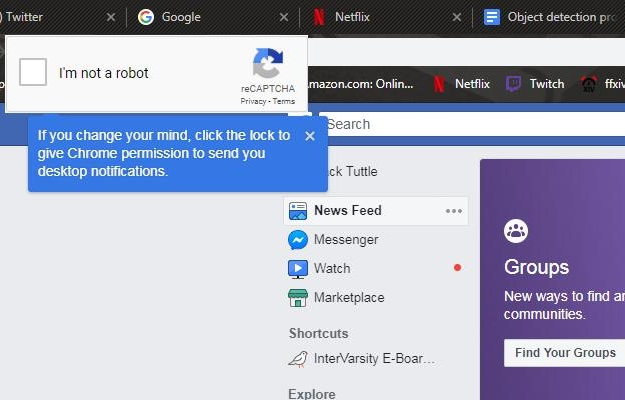captcha: (19, 57, 149, 86)
